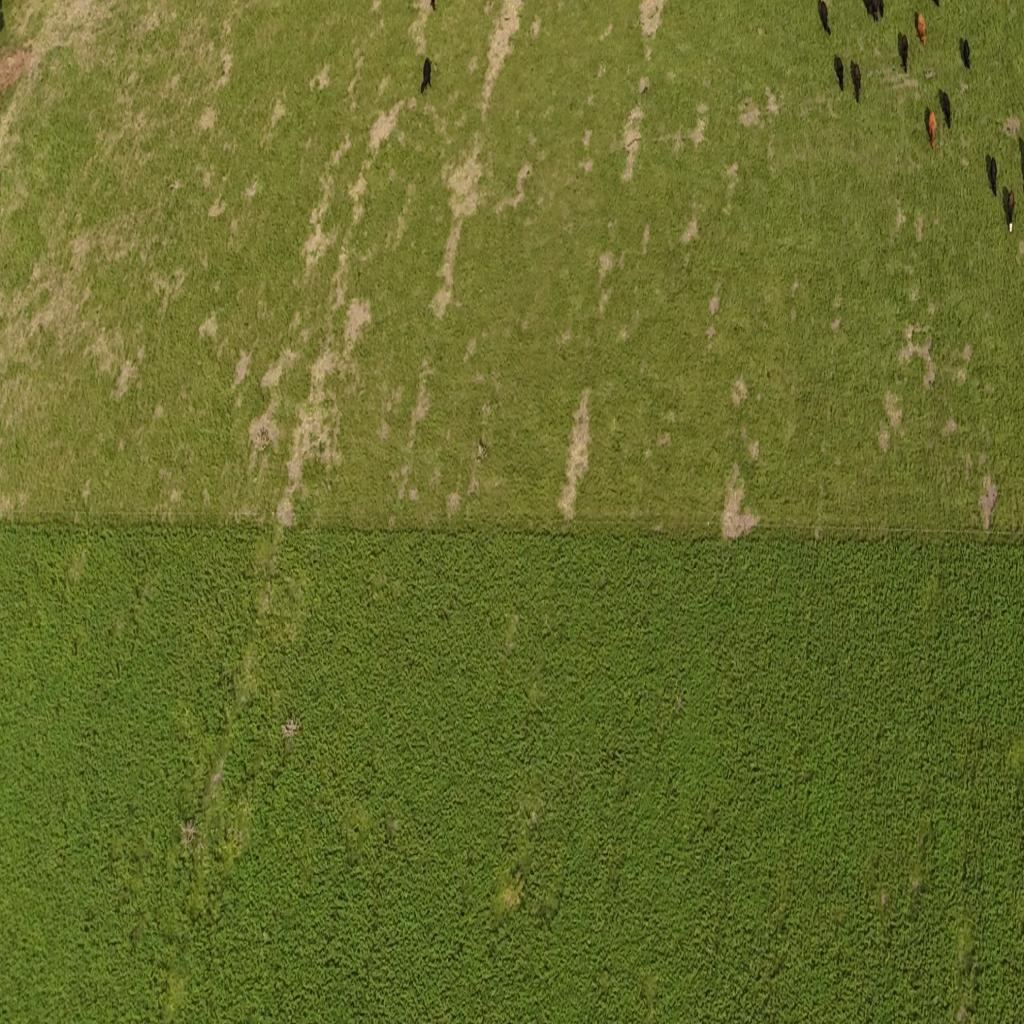cow: (938, 88, 952, 130), (1004, 189, 1016, 235), (419, 55, 433, 93), (834, 52, 846, 93), (898, 31, 909, 75), (818, 0, 831, 35), (927, 110, 938, 151), (960, 36, 972, 72), (851, 60, 861, 103), (989, 156, 998, 196), (916, 12, 926, 48)
